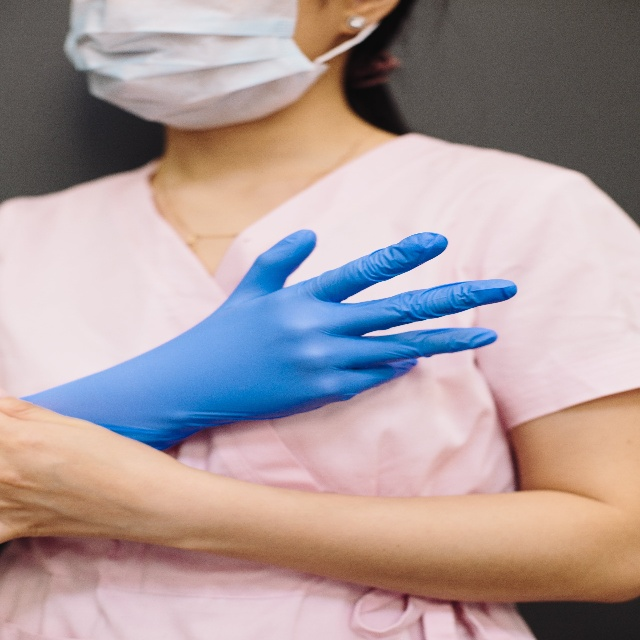Guantes: (18, 228, 519, 454)
Mascara: (63, 0, 359, 124)
Sin_guantes: (0, 396, 167, 546)
